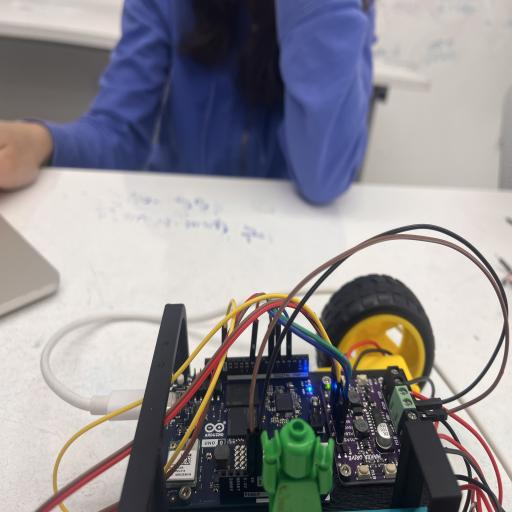Lego-Minifig: (261, 419, 333, 512)
